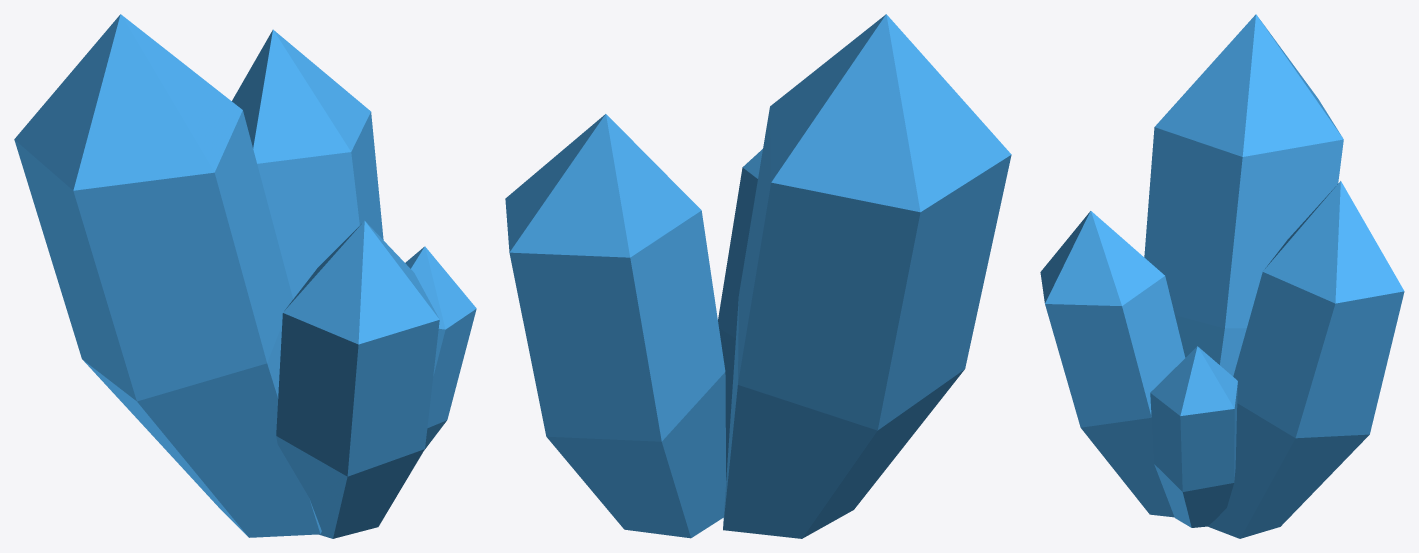
The model's file is Ingredient_crystal_1.fbx.
3 renders of one model, left to right at view 1: azimuth 30°, elevation 25°; view 2: azimuth 150°, elevation 25°; view 3: azimuth 270°, elevation 25°, orthographic. The views are drawn at different scales.
Visible parts, largest first — view 1: Jar_Crystal.002; view 2: Jar_Crystal.002; view 3: Jar_Crystal.002.
Boxes of the visible parts, <box> form: Jar_Crystal.002: <box>14,14,476,538</box>; Jar_Crystal.002: <box>505,14,1011,538</box>; Jar_Crystal.002: <box>1040,14,1404,538</box>.
Size of the model in its own units: 28.08 by 35.23 by 27.49.
